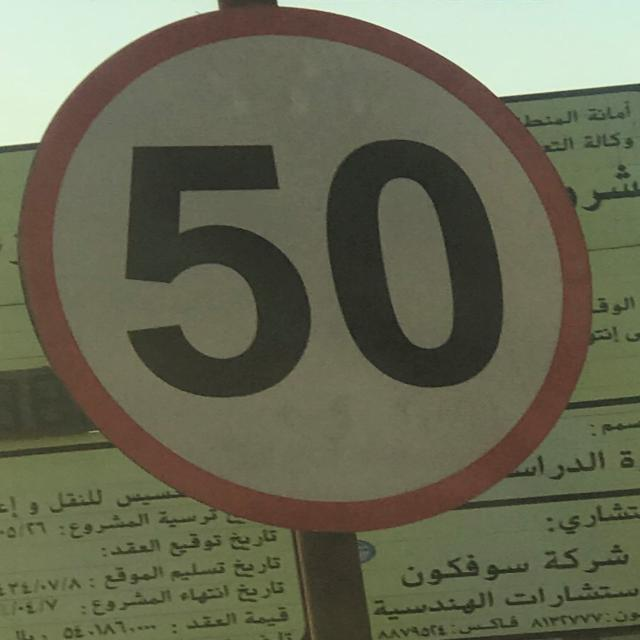Limite-50: (15, 9, 595, 534)
